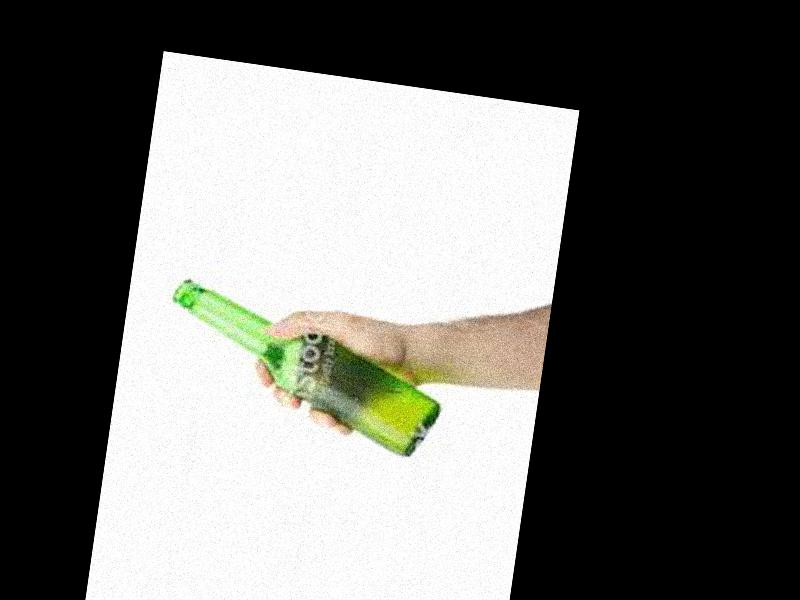Beer: (152, 276, 450, 461)
